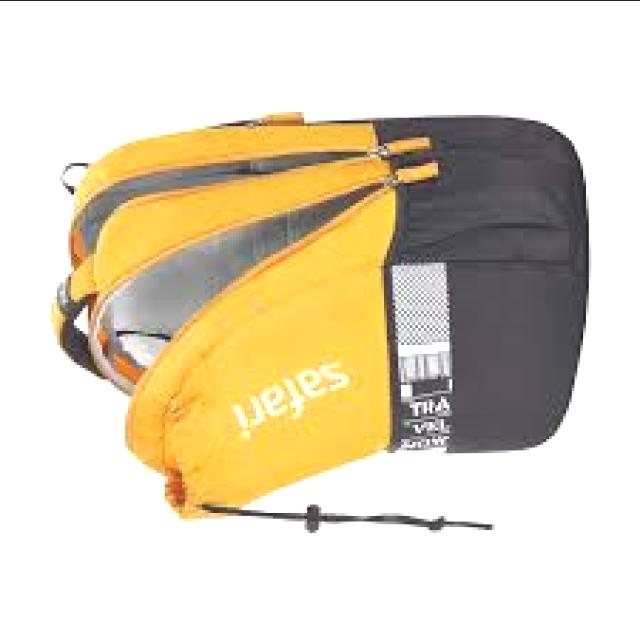backpack: (50, 112, 590, 536)
